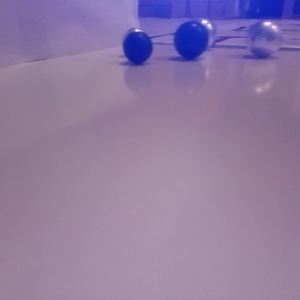alive_ball: (246, 21, 282, 56), (187, 17, 216, 51), (122, 28, 148, 55)
dead_ball: (174, 20, 209, 58), (123, 32, 153, 64)
